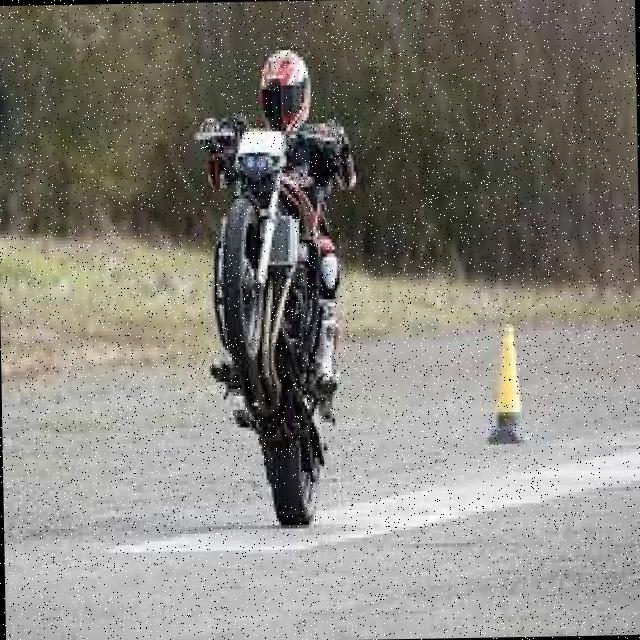Wheeling: (186, 35, 379, 538)
